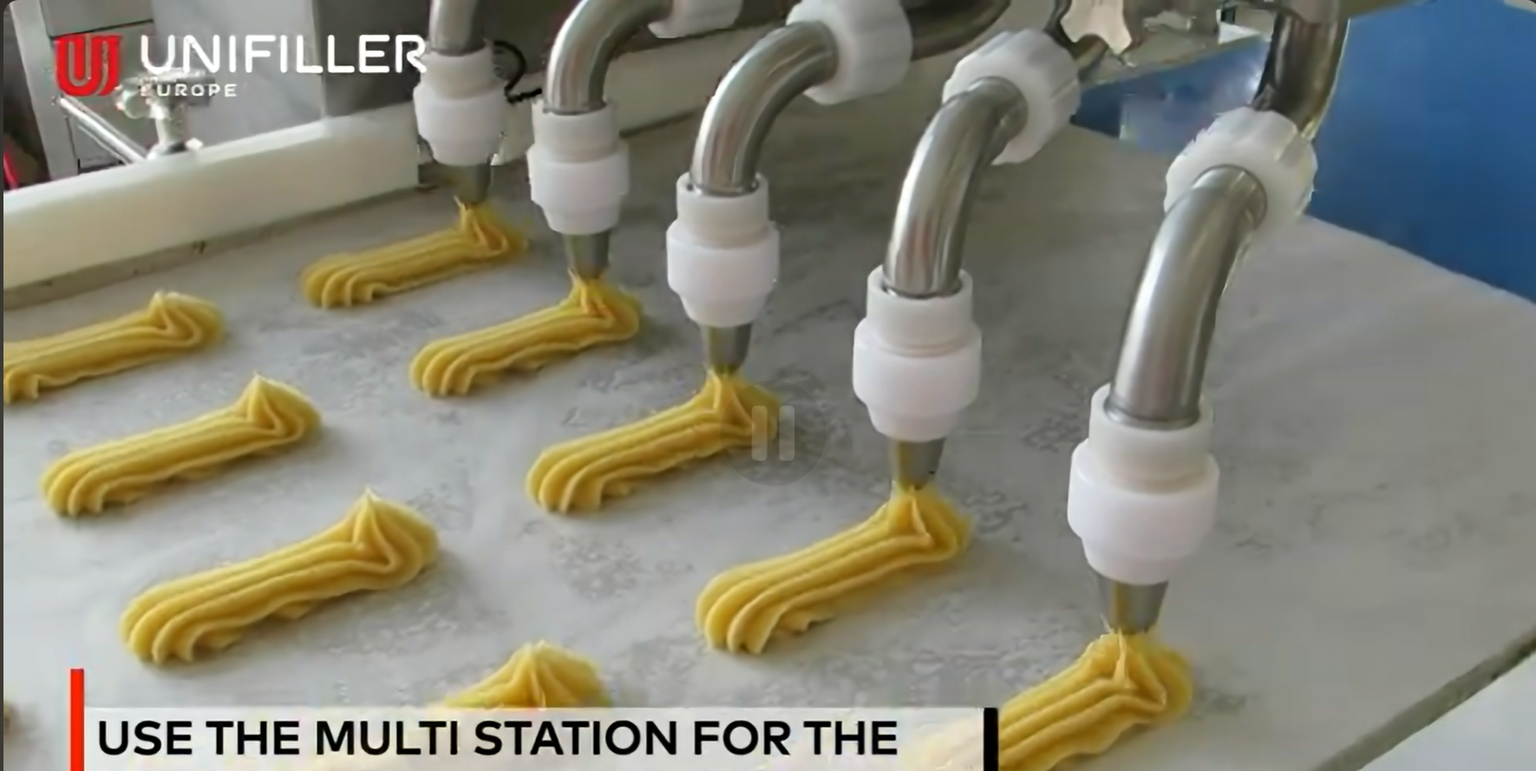Vermicelli: (124, 485, 449, 667), (695, 482, 983, 659), (42, 371, 324, 517), (527, 364, 783, 517), (998, 626, 1199, 771), (412, 276, 647, 396), (4, 286, 224, 404), (300, 204, 522, 308), (435, 637, 616, 709)
